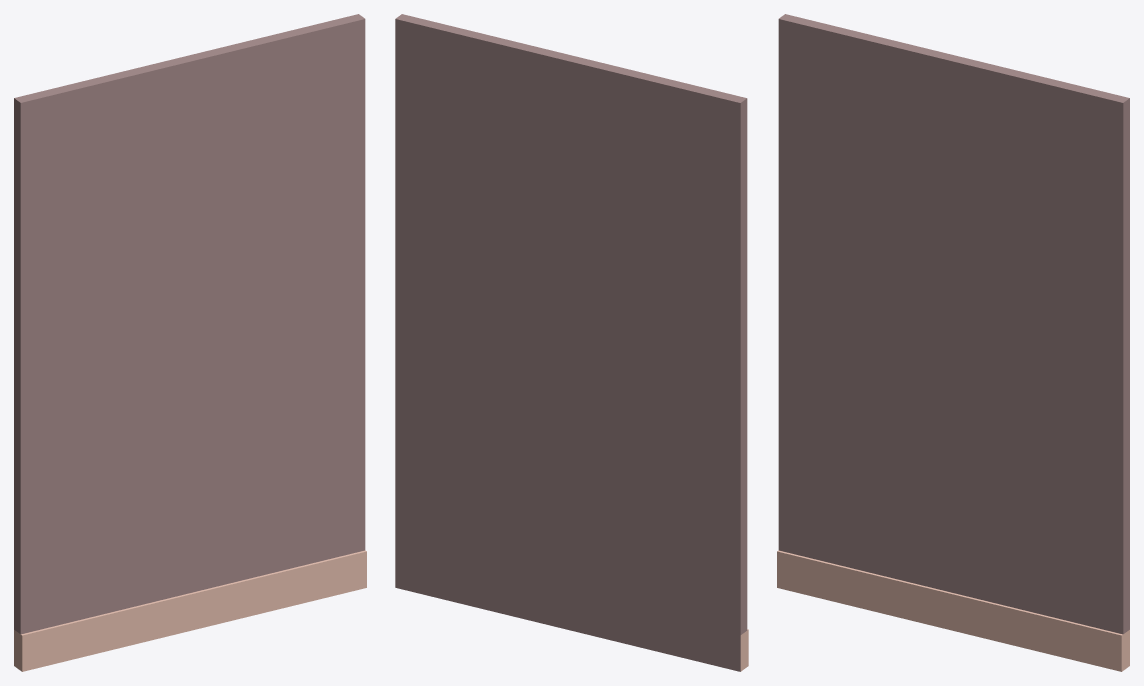
Rendered from SM_Wall_3_01.fbx.
The picture shows the model from 3 angles, left to right: view 1: azimuth 30°, elevation 25°; view 2: azimuth 150°, elevation 25°; view 3: azimuth 330°, elevation 25°; orthographic projection.
Parts seen in each view (by area): view 1: SM_Wall_3_01; view 2: SM_Wall_3_01; view 3: SM_Wall_3_01.
Part boxes in pixels (box(x1,y1,x2,y2)): SM_Wall_3_01: box(14, 14, 366, 671); SM_Wall_3_01: box(395, 14, 748, 671); SM_Wall_3_01: box(777, 14, 1129, 671).
Size of the model in its own units: 188 by 295 by 7.68.
